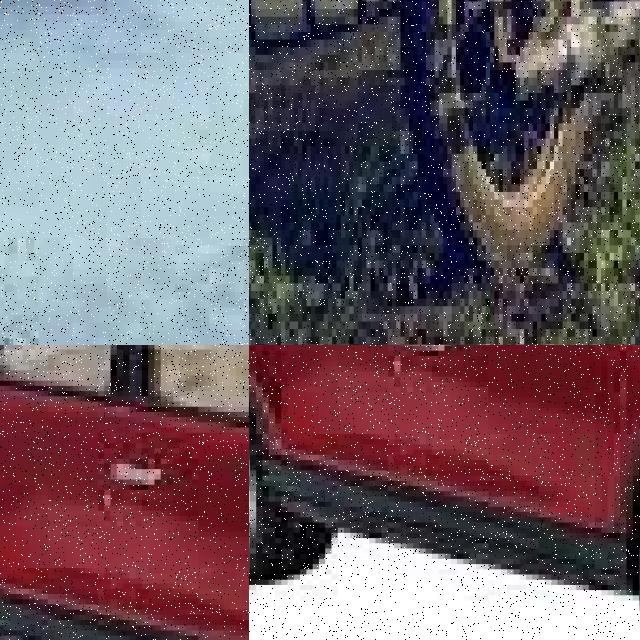bike: (249, 0, 640, 314)
car: (249, 345, 640, 640), (0, 345, 249, 640)
